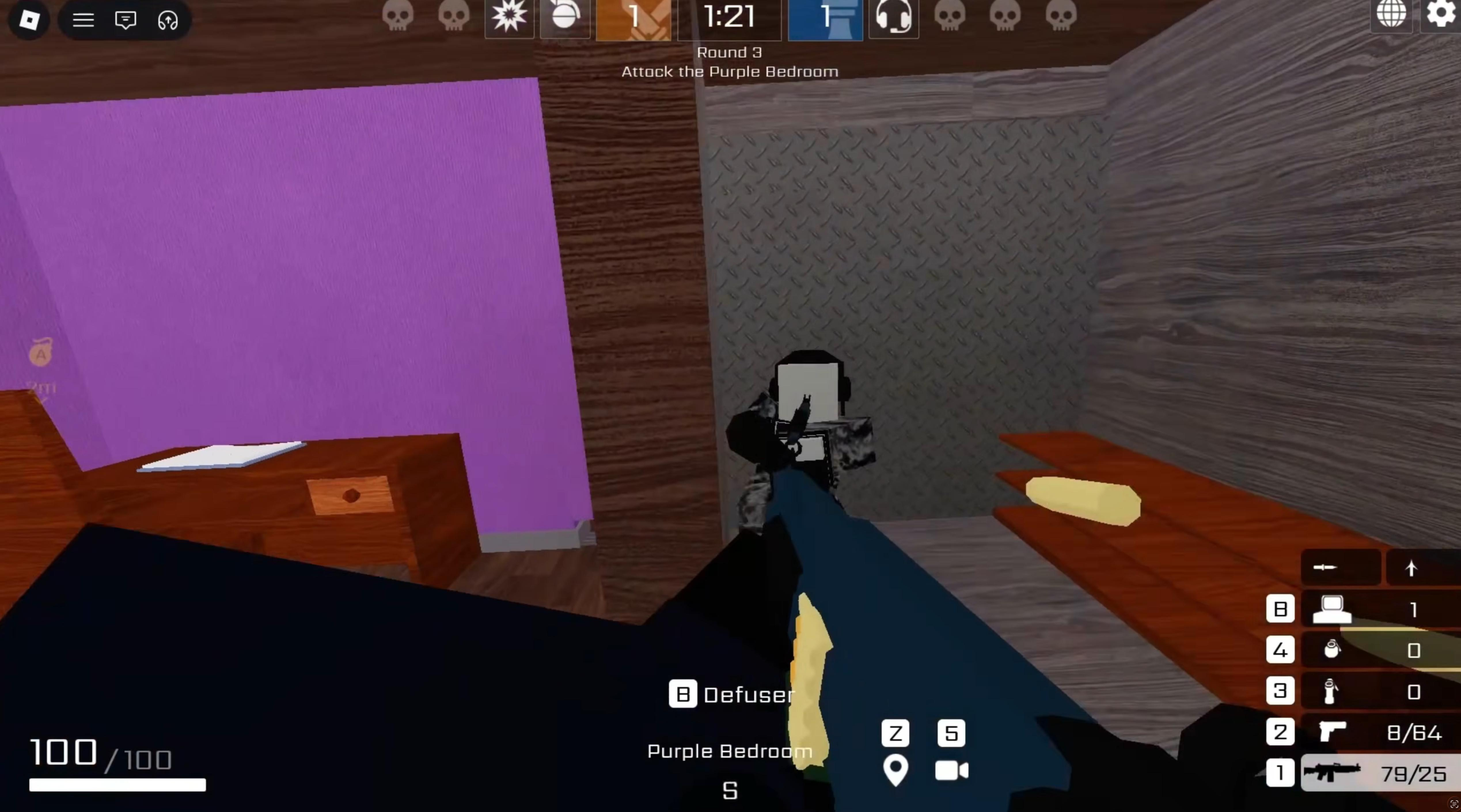enemy: (707, 337, 883, 582)
